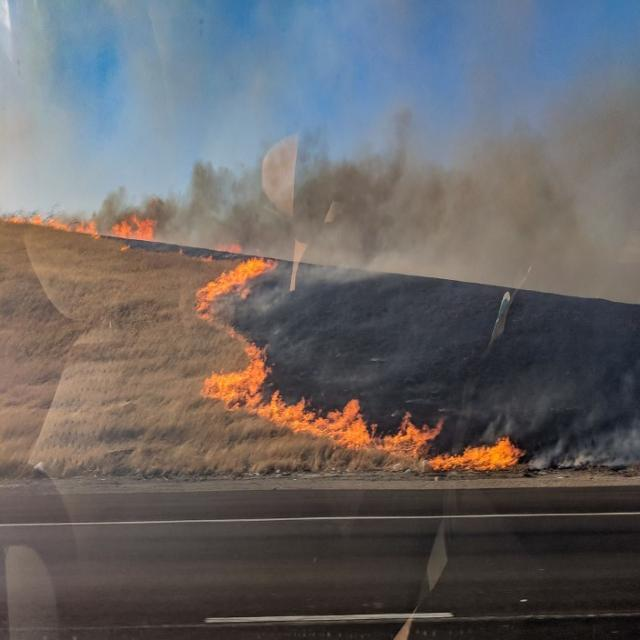Fire: (262, 396, 447, 450), (198, 327, 271, 413), (196, 252, 278, 321), (4, 211, 102, 242), (429, 440, 523, 470), (110, 212, 156, 253), (217, 236, 246, 256)
Smoke: (253, 77, 640, 255), (153, 156, 257, 248), (458, 369, 580, 431), (290, 220, 392, 290), (228, 269, 291, 320), (573, 424, 640, 469), (526, 436, 567, 472), (95, 188, 124, 227)
